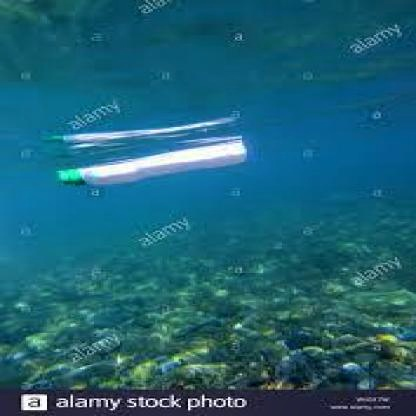pbottle: (30, 139, 261, 187)
